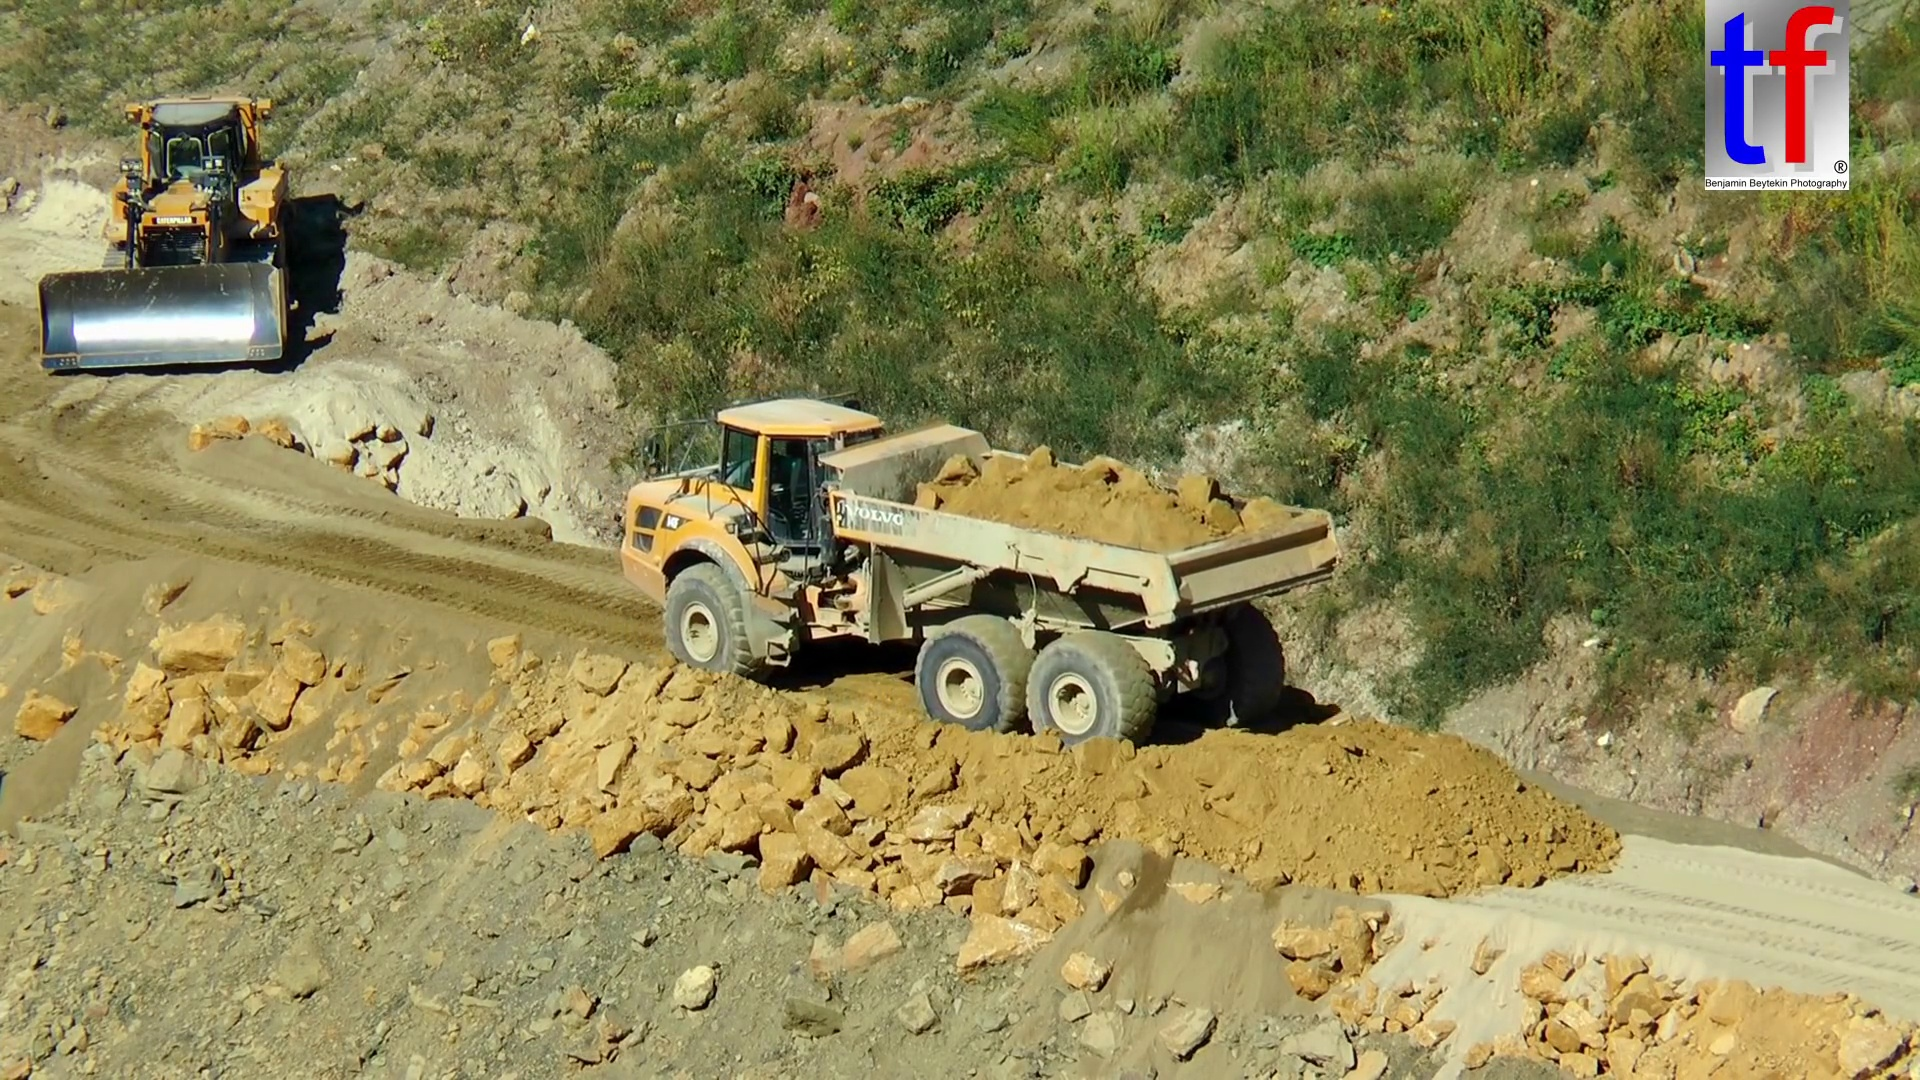bulldozer: (37, 99, 287, 371)
dumper: (618, 392, 1342, 752)
